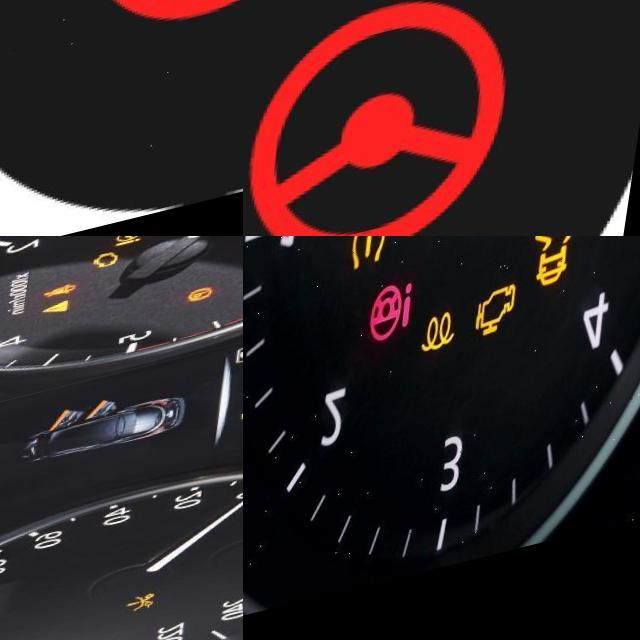Electronic Power Steering: (243, 0, 529, 236), (119, 238, 147, 261)
Electronic Power Steering Warning: (375, 291, 427, 359)
Seat Belt: (44, 290, 85, 312)
